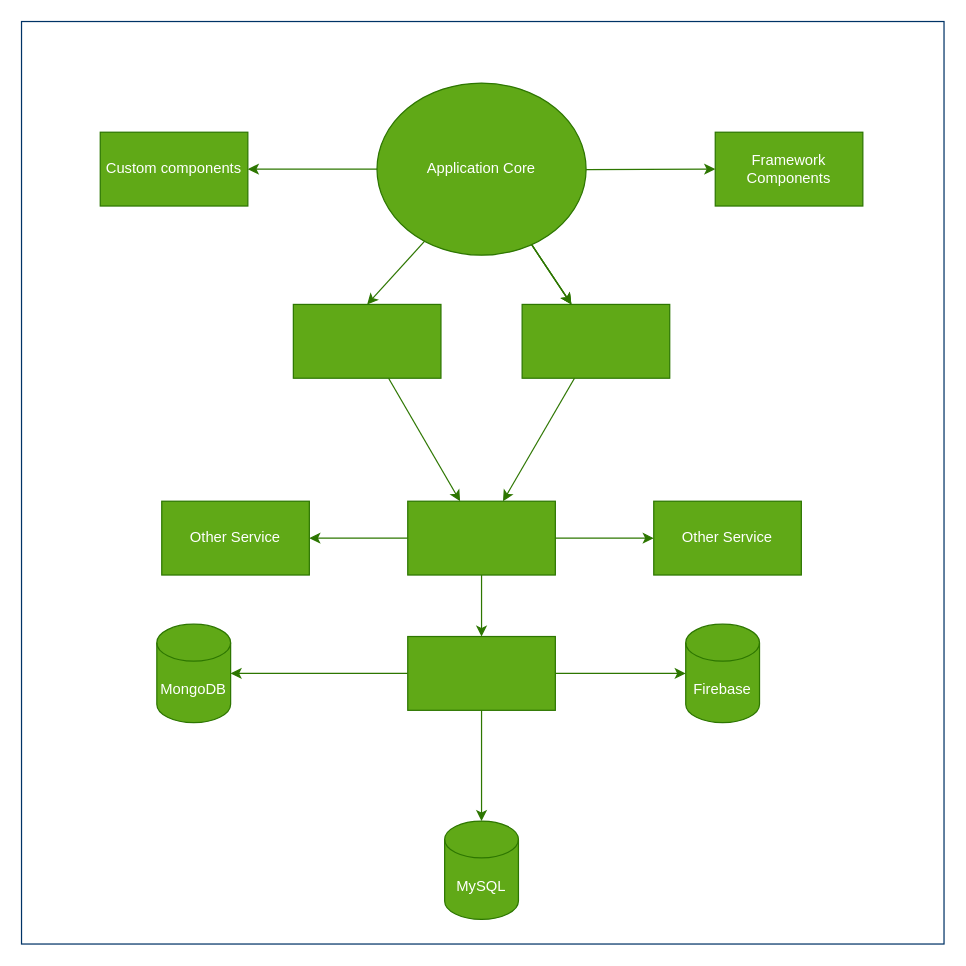
This 966x966 diagram has some shape labels left out. The centre of each missing label's shape, as x and y in pixels:
Repositories: point 481,672
REST Api Controller: point 595,340
Services: point 481,537
Web App Controller: point 366,340
